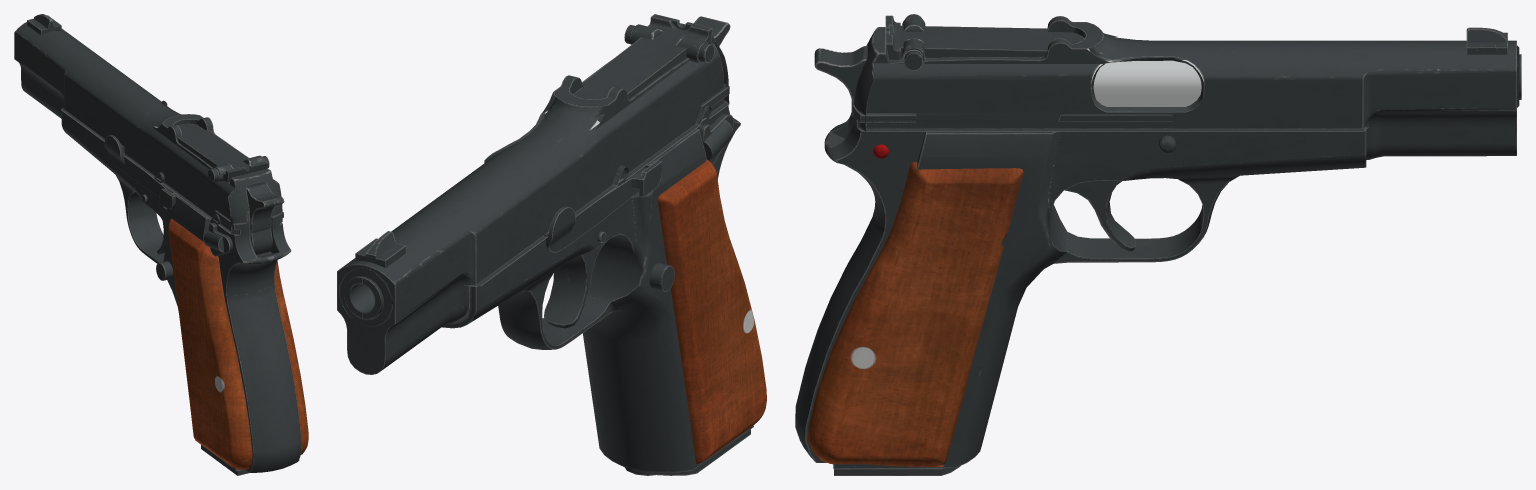
File: Hi-Pow.glb
The picture shows the model from 3 angles, left to right: view 1: azimuth 30°, elevation 25°; view 2: azimuth 150°, elevation 25°; view 3: azimuth 270°, elevation 25°; orthographic projection. The views are drawn at different scales.
Parts seen in each view (by area): view 1: Browning_HP_BrowningHP_0; view 2: Browning_HP_BrowningHP_0; view 3: Browning_HP_BrowningHP_0.
Part boxes in pixels (left/top/right/bottom): Browning_HP_BrowningHP_0: left=14, top=14, right=308, bottom=475; Browning_HP_BrowningHP_0: left=337, top=14, right=766, bottom=475; Browning_HP_BrowningHP_0: left=795, top=14, right=1521, bottom=475.
Bounding box in the file's own units: 0.0702 × 0.2462 × 0.3813.
1 material, 1 textured.
